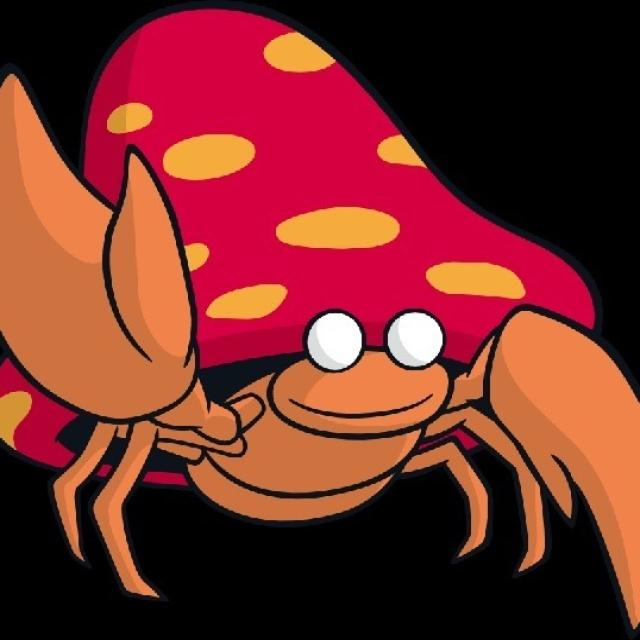Parasect: (28, 17, 576, 571)
